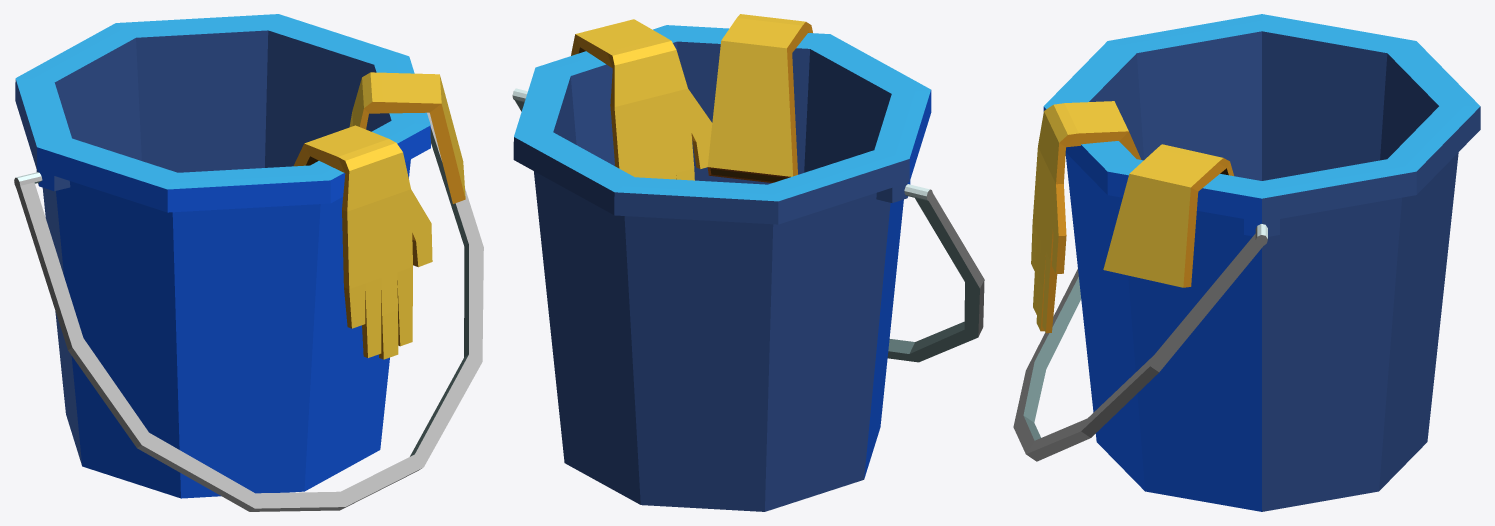
The model's file is Sceau plus Gants.fbx.
3 renders of one model, left to right at view 1: azimuth 30°, elevation 25°; view 2: azimuth 150°, elevation 25°; view 3: azimuth 270°, elevation 25°, orthographic.
Parts seen in each view (by area): view 1: Bucket, Handle, Glove, Glove 2; view 2: Bucket, Glove 2, Glove, Handle; view 3: Bucket, Glove 2, Glove, Handle.
Boxes of the visible parts, x1,y1,x2,y2 form: Bucket: (15,14,430,498); Handle: (14,112,483,511); Glove: (293,125,432,359); Glove 2: (349,72,465,203); Bucket: (513,25,931,511); Glove 2: (571,19,712,180); Glove: (707,14,812,182); Handle: (512,88,984,362); Bucket: (1043,14,1480,511); Glove 2: (1103,144,1233,287); Glove: (1031,101,1141,333); Handle: (1013,224,1267,461).
Bounding box in the file's own units: 50.58 × 40.13 × 48.85.
